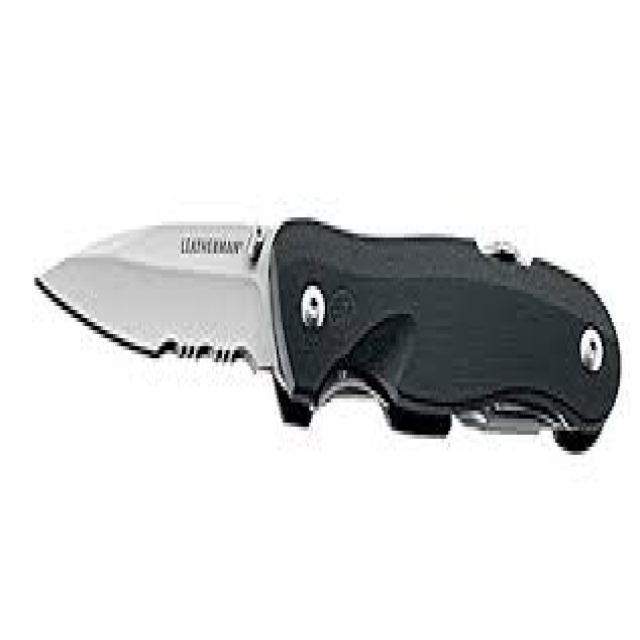knives: (30, 201, 624, 463)
